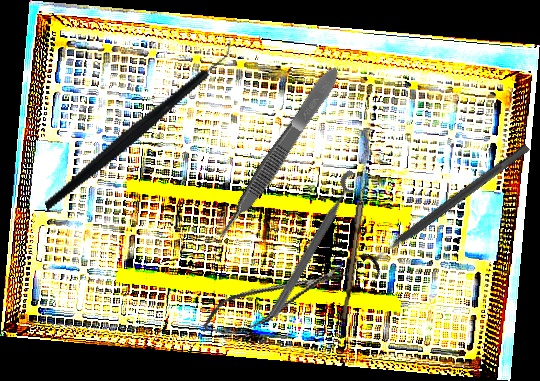Chopper: (11, 32, 265, 214)
Fixation Ring: (358, 134, 538, 281), (264, 168, 371, 326)
Micro Scissor: (195, 256, 354, 344)
Surgical Spoon: (341, 160, 370, 320)
Tissue Forceps: (210, 63, 346, 244)
